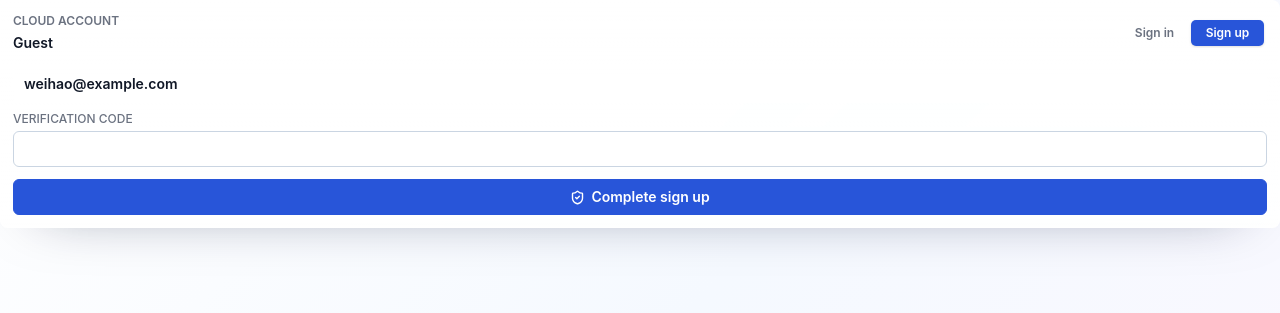
it: AuthPanel › rejects invalid verification codes before completing sign up
Expected: the text "weihao@example.com" is shown, [24,75,178,92]
Type "12345a" into the field labelled "Verification code". click: (640,149)
box: [13,131,1267,167]
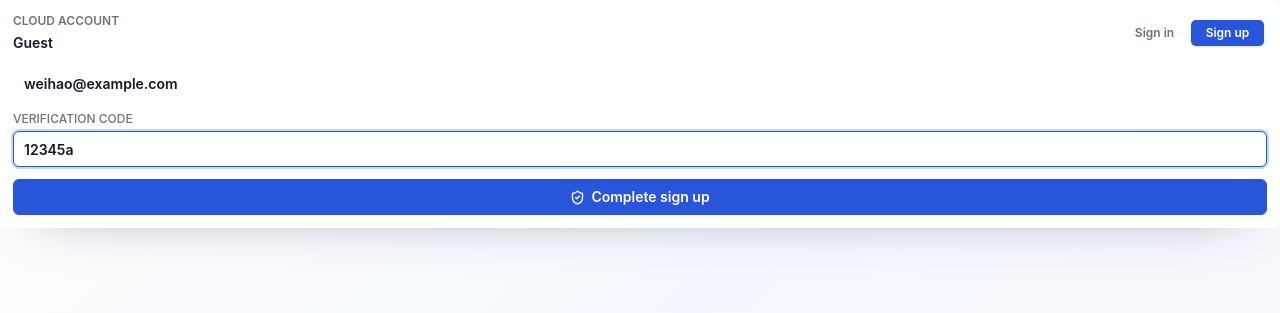
Click the button "Complete sign up". click: (640,197)
box: [13,179,1267,215]
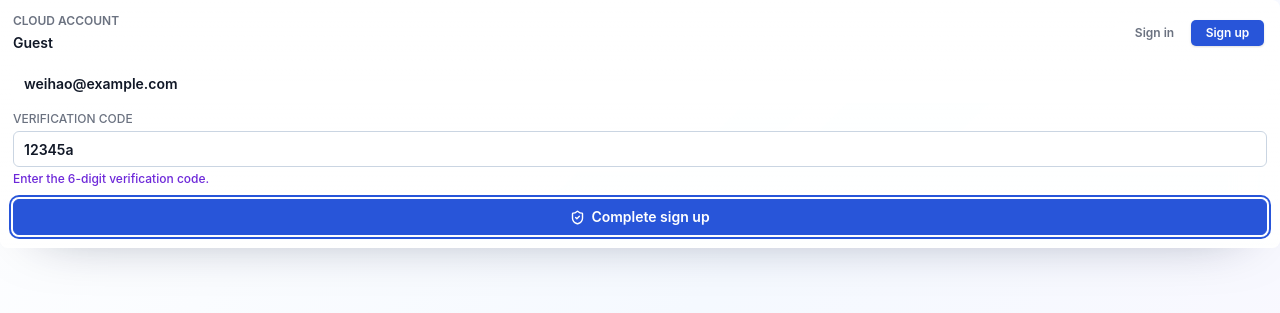
Expected: the text "Enter the 6-digit verification code." is shown, [13,171,209,186]
